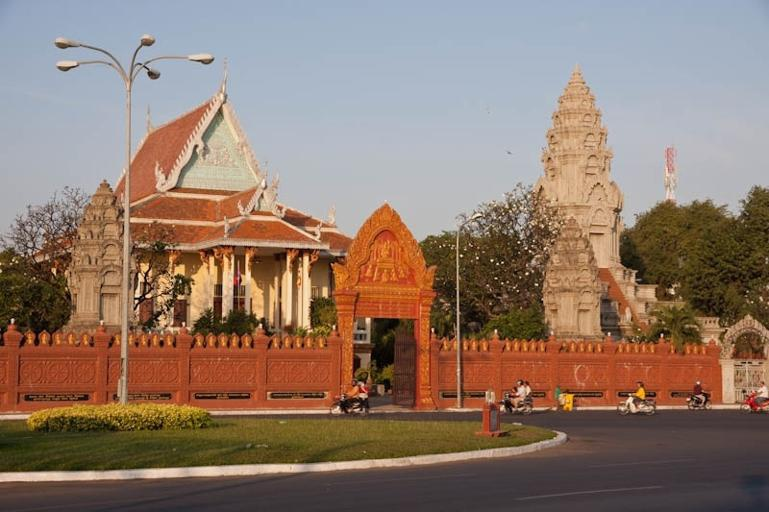non-vehicle: (616, 393, 655, 416), (329, 394, 367, 416), (497, 392, 532, 415), (740, 391, 768, 413), (686, 392, 712, 409)
